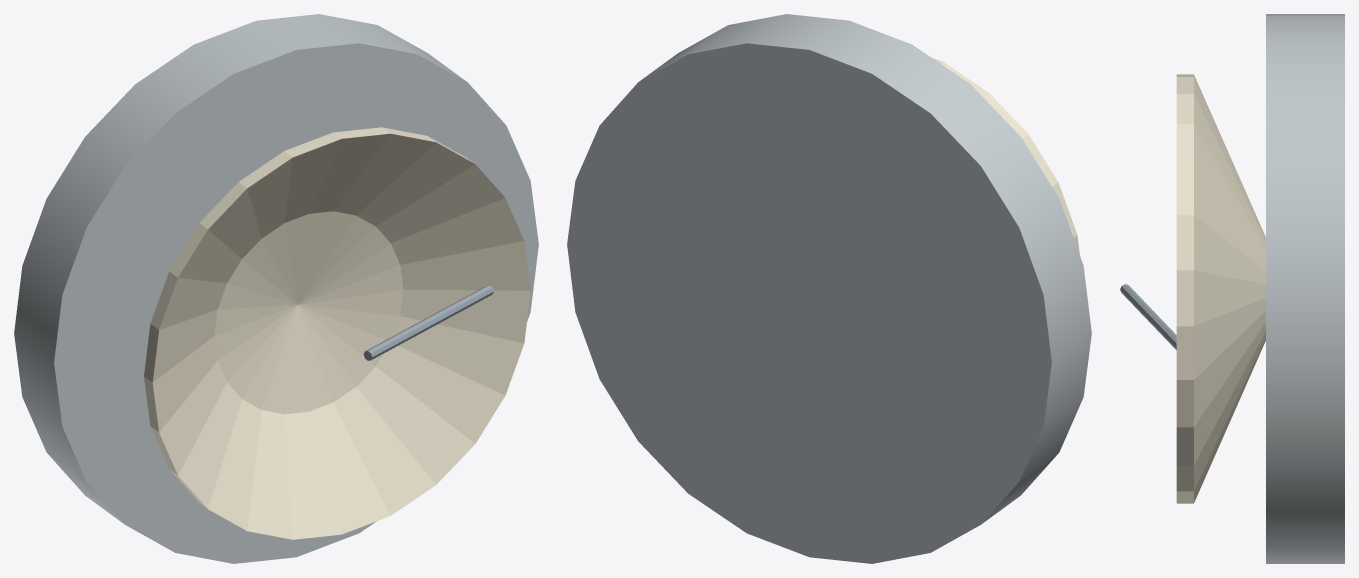
Rendered from ref-iae-23872.glb.
3 renders of one model, left to right at view 1: azimuth 30°, elevation 25°; view 2: azimuth 150°, elevation 25°; view 3: azimuth 270°, elevation 25°, orthographic.
Parts seen in each view (by area): view 1: Reflector dish, Spacecraft body, Feed support; view 2: Spacecraft body, Reflector dish; view 3: Spacecraft body, Reflector dish, Feed support.
Part boxes in pixels (x1,y1,x2,y2): Reflector dish: [144, 127, 530, 539]; Spacecraft body: [14, 14, 538, 563]; Feed support: [363, 285, 493, 360]; Spacecraft body: [567, 14, 1091, 563]; Reflector dish: [931, 57, 1079, 254]; Spacecraft body: [1266, 14, 1344, 563]; Reflector dish: [1176, 74, 1265, 503]; Feed support: [1120, 284, 1176, 349].
Size of the model in its own units: 14 by 14 by 5.7.
